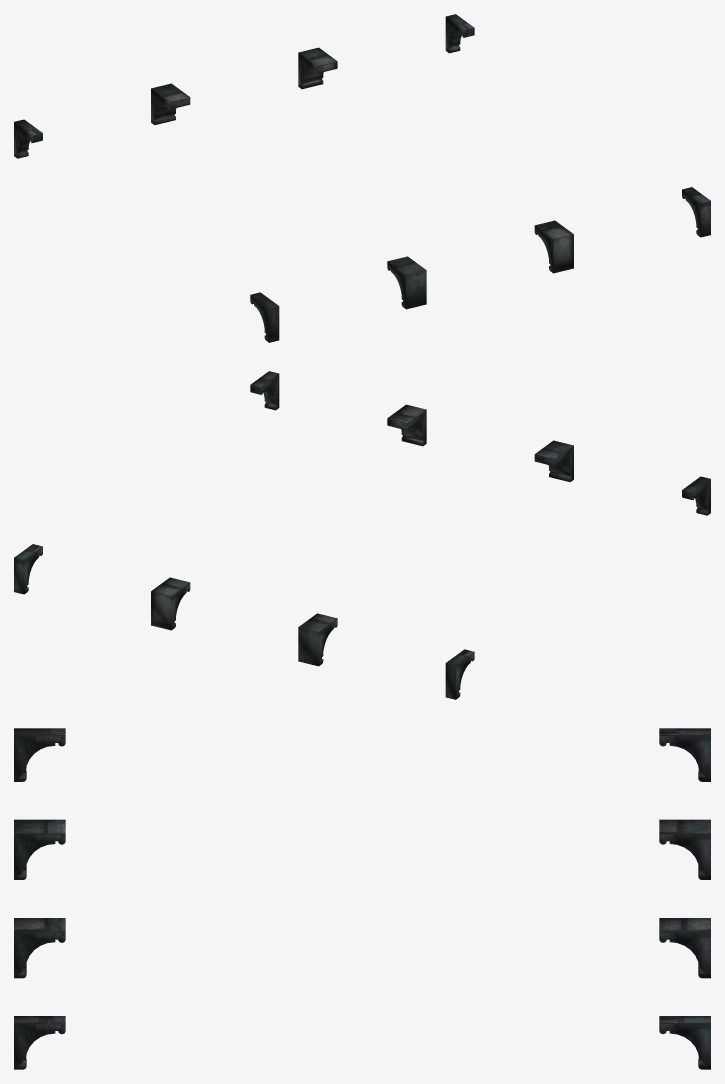
File: dark stone roof decorations2.glb
3 renders of one model, top to bottom at view 1: azimuth 30°, elevation 25°; view 2: azimuth 150°, elevation 25°; view 3: azimuth 270°, elevation 25°, orthographic. The views are drawn at different scales.
Parts seen in each view (by area): view 1: Brackets, 9 x 9; view 2: Brackets, 9 x 9; view 3: Brackets, 9 x 9.
Part boxes in pixels (<box>): Brackets, 9 x 9: <box>14,14,710,342</box>; Brackets, 9 x 9: <box>14,371,710,699</box>; Brackets, 9 x 9: <box>14,728,710,1069</box>.
Bounding box in the file's own units: 2.74 × 0.2032 × 2.74.
Materials: 1 (1 with a texture image).
